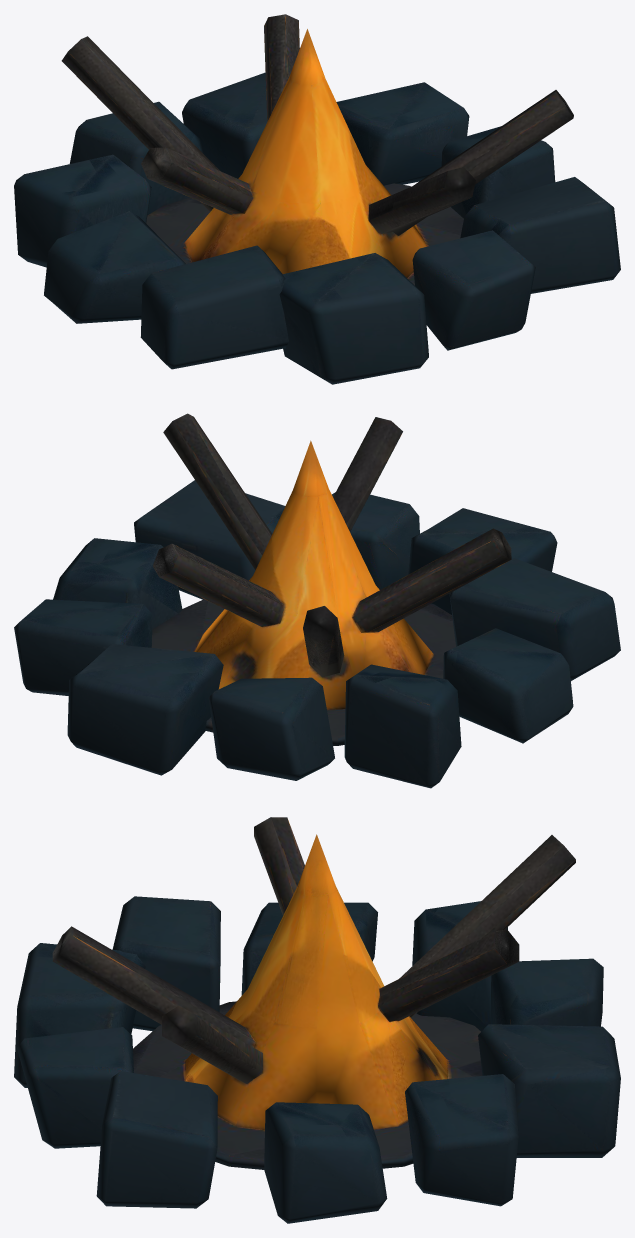
Rendered from firepit.glb.
3 views of the same model, one above another, from view 1: azimuth 30°, elevation 25°; view 2: azimuth 150°, elevation 25°; view 3: azimuth 270°, elevation 25° (orthographic). The views are drawn at different scales.
Parts seen in each view (by area): view 1: firepit; view 2: firepit; view 3: firepit.
Boxes of the visible parts, <box> form: firepit: <box>14,14,620,384</box>; firepit: <box>14,413,620,788</box>; firepit: <box>14,817,620,1223</box>.
Size of the model in its own units: 1.55 by 0.7553 by 1.5.
Materials: 1 (1 with a texture image).
